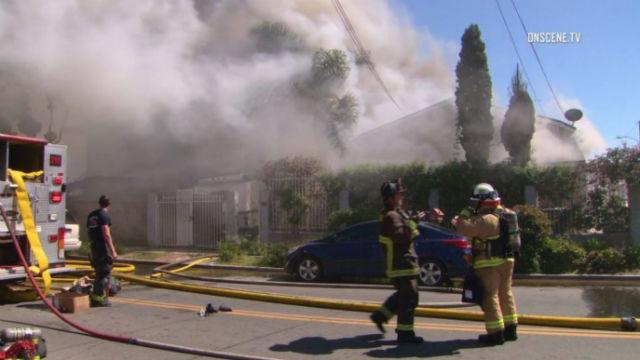smoke: (17, 0, 488, 180)
